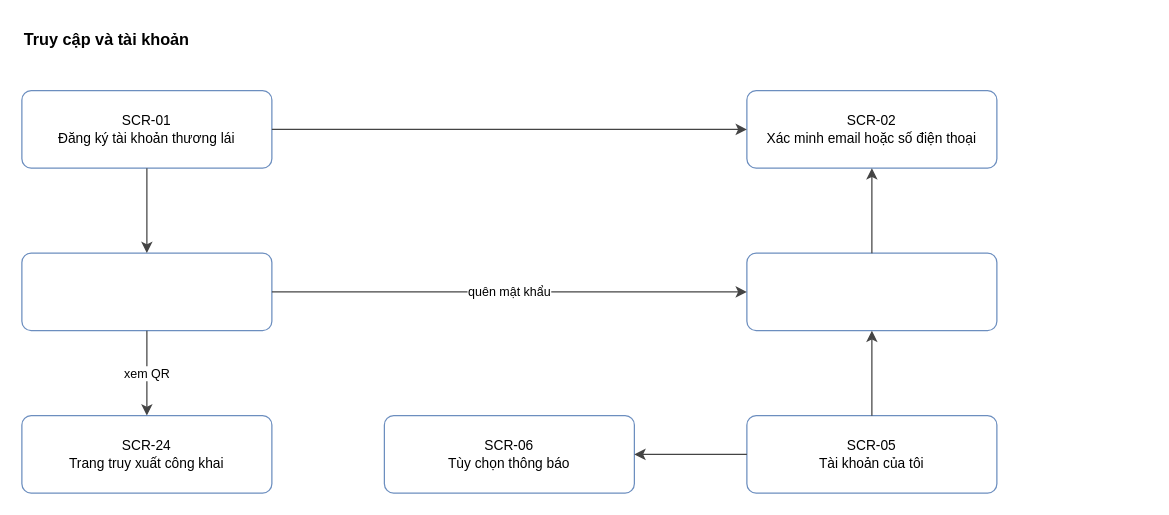
Image size: 1169x515. Some labels were removed from this diagram. The shapes that lost their labels are listed below. From the top down, each one's box as (x1, y1, x2, y2) in pixels, then its label:
(21, 252, 272, 331): SCR-03 Đăng nhập
(746, 252, 997, 331): SCR-04 Khôi phục tài khoản
